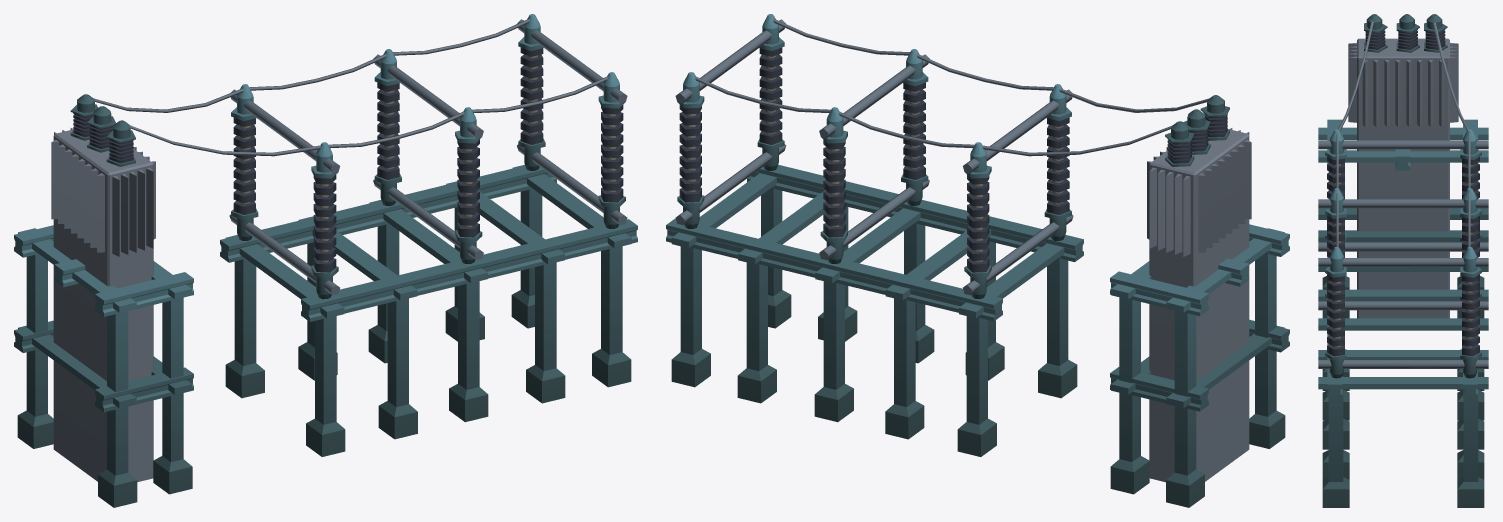
File: PowerStation_C.glb
3 renders of one model, left to right at view 1: azimuth 30°, elevation 25°; view 2: azimuth 150°, elevation 25°; view 3: azimuth 270°, elevation 25°, orthographic. The views are drawn at different scales.
Visible parts, largest first — view 1: PowerStation_C; view 2: PowerStation_C; view 3: PowerStation_C.
Part boxes in pixels (x1,y1,x2,y2): PowerStation_C: (14, 14, 637, 507); PowerStation_C: (666, 14, 1289, 507); PowerStation_C: (1318, 14, 1488, 507).
Size of the model in its own units: 6.59 by 4.18 by 2.17.
2 materials, 2 textured.
